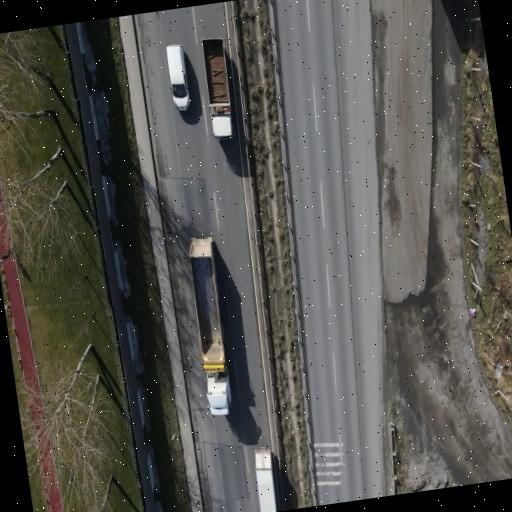UAI: (189, 237, 230, 414), (201, 38, 232, 138), (254, 447, 276, 511)
person: (165, 44, 189, 109)
